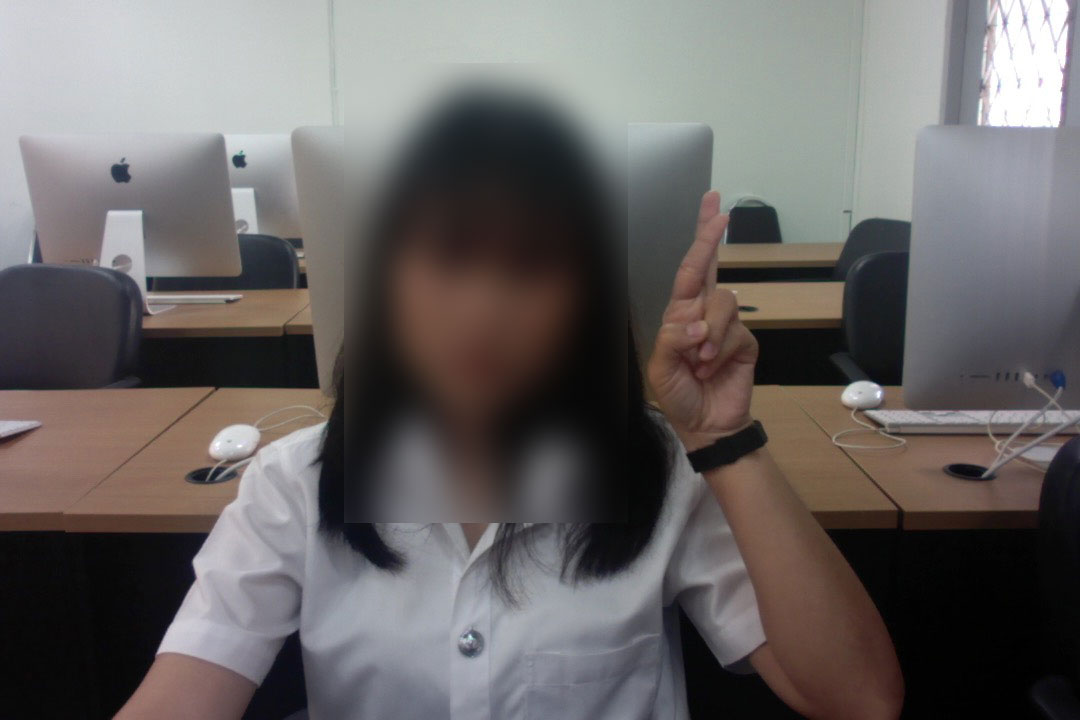rao: (626, 184, 780, 445)
